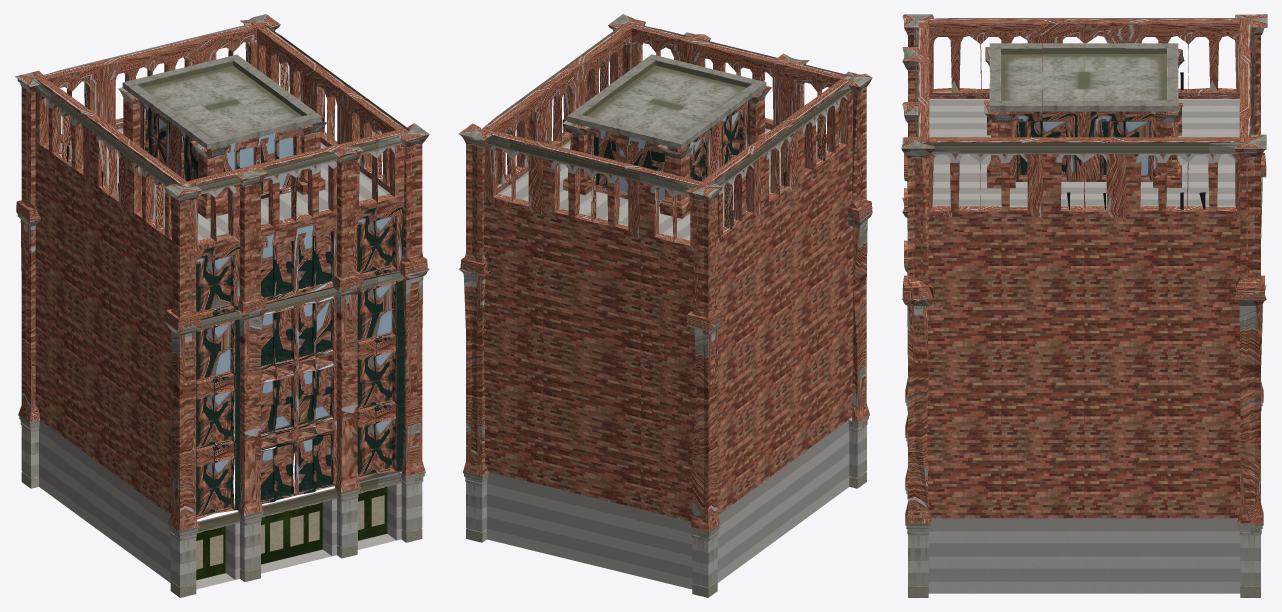
The model's file is modular.glb.
3 renders of one model, left to right at view 1: azimuth 30°, elevation 25°; view 2: azimuth 150°, elevation 25°; view 3: azimuth 270°, elevation 25°, orthographic. The views are drawn at different scales.
Visible parts, largest first — view 1: Object_4, Object_9, Object_5, Object_11, Object_12, Object_8, Object_10, Object_7, Object_6, Object_2, Object_3; view 2: Object_9, Object_5, Object_8, Object_4, Object_2, Object_3, Object_7, Object_6, Object_12, Object_11; view 3: Object_9, Object_8, Object_5, Object_4, Object_2, Object_11, Object_3, Object_6, Object_7.
Part boxes in pixels (x1=…): Object_4: x1=14, y1=14, x2=429, y2=531; Object_9: x1=35, y1=146, x2=396, y2=515; Object_5: x1=34, y1=22, x2=409, y2=251; Object_11: x1=140, y1=101, x2=404, y2=519; Object_12: x1=144, y1=112, x2=336, y2=503; Object_8: x1=39, y1=128, x2=401, y2=582; Object_10: x1=196, y1=472, x2=401, y2=589; Object_7: x1=18, y1=414, x2=425, y2=597; Object_6: x1=32, y1=21, x2=409, y2=532; Object_2: x1=146, y1=64, x2=297, y2=139; Object_3: x1=122, y1=54, x2=321, y2=149; Object_9: x1=483, y1=146, x2=853, y2=521; Object_5: x1=479, y1=22, x2=853, y2=251; Object_8: x1=486, y1=128, x2=849, y2=589; Object_4: x1=458, y1=14, x2=872, y2=531; Object_2: x1=591, y1=64, x2=742, y2=139; Object_3: x1=567, y1=54, x2=766, y2=149; Object_7: x1=463, y1=414, x2=869, y2=597; Object_6: x1=478, y1=23, x2=854, y2=226; Object_12: x1=580, y1=109, x2=744, y2=206; Object_11: x1=591, y1=101, x2=748, y2=181; Object_9: x1=927, y1=129, x2=1240, y2=518; Object_8: x1=928, y1=99, x2=1240, y2=593; Object_5: x1=918, y1=19, x2=1250, y2=217; Object_4: x1=901, y1=14, x2=1267, y2=523; Object_2: x1=990, y1=43, x2=1178, y2=111; Object_11: x1=1001, y1=54, x2=1167, y2=181; Object_3: x1=989, y1=43, x2=1178, y2=111; Object_6: x1=915, y1=18, x2=1253, y2=209; Object_7: x1=905, y1=401, x2=1263, y2=597.
Size of the model in its own units: 7.8 by 12.16 by 8.82.
Materials: 11 (11 with a texture image).
